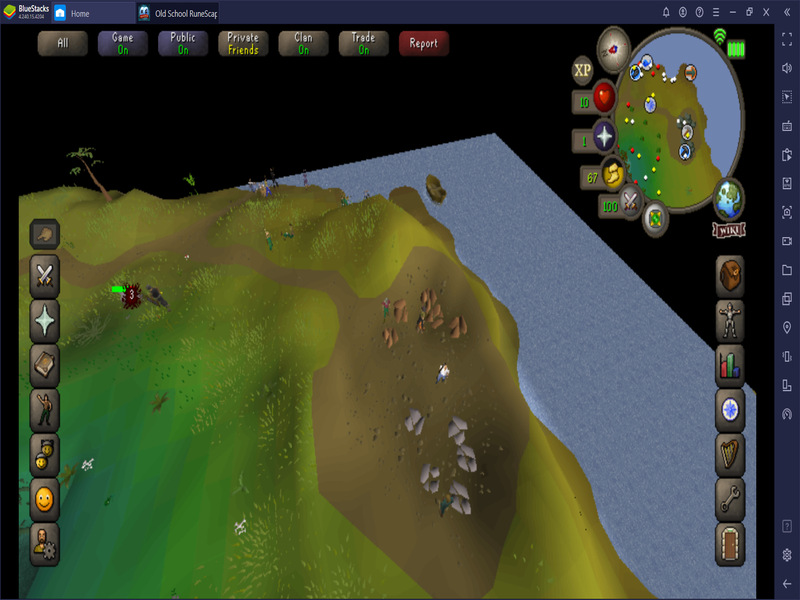copper_rock_1: (378, 323, 403, 349)
copper_rock_2: (391, 297, 411, 327)
